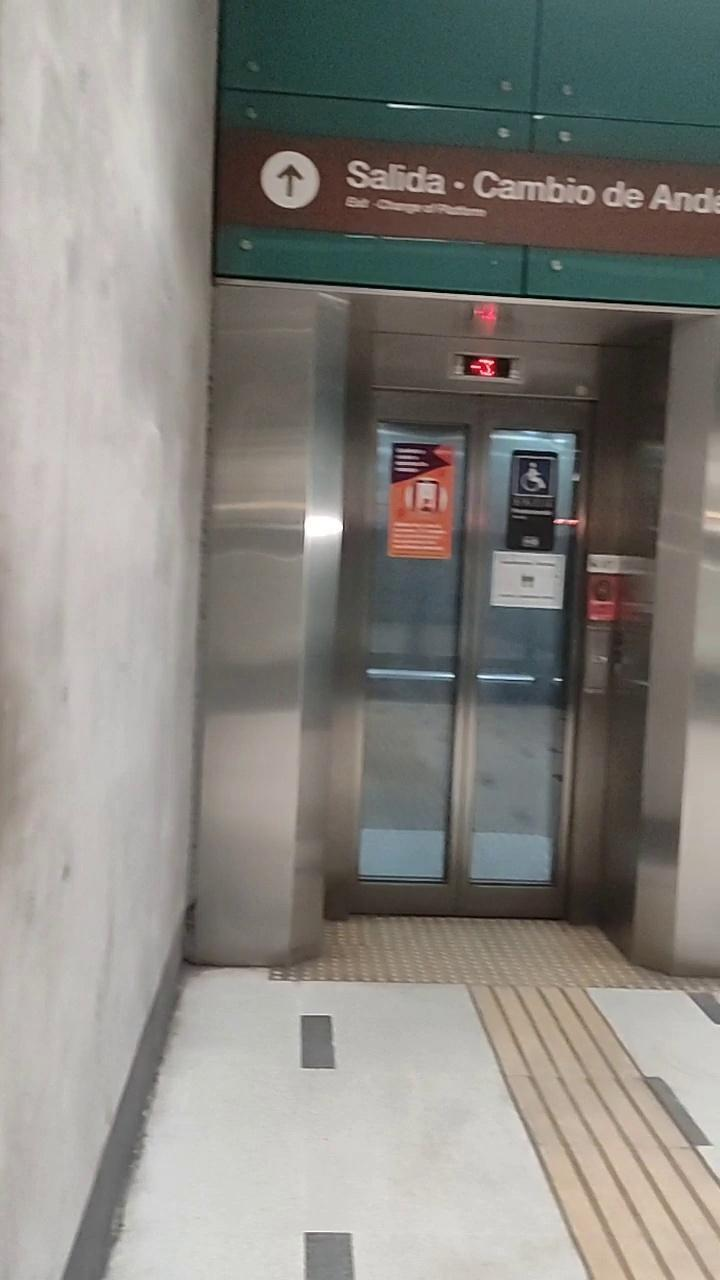handicapped symbol: (520, 461, 546, 494)
up arrow: (276, 155, 308, 202)
